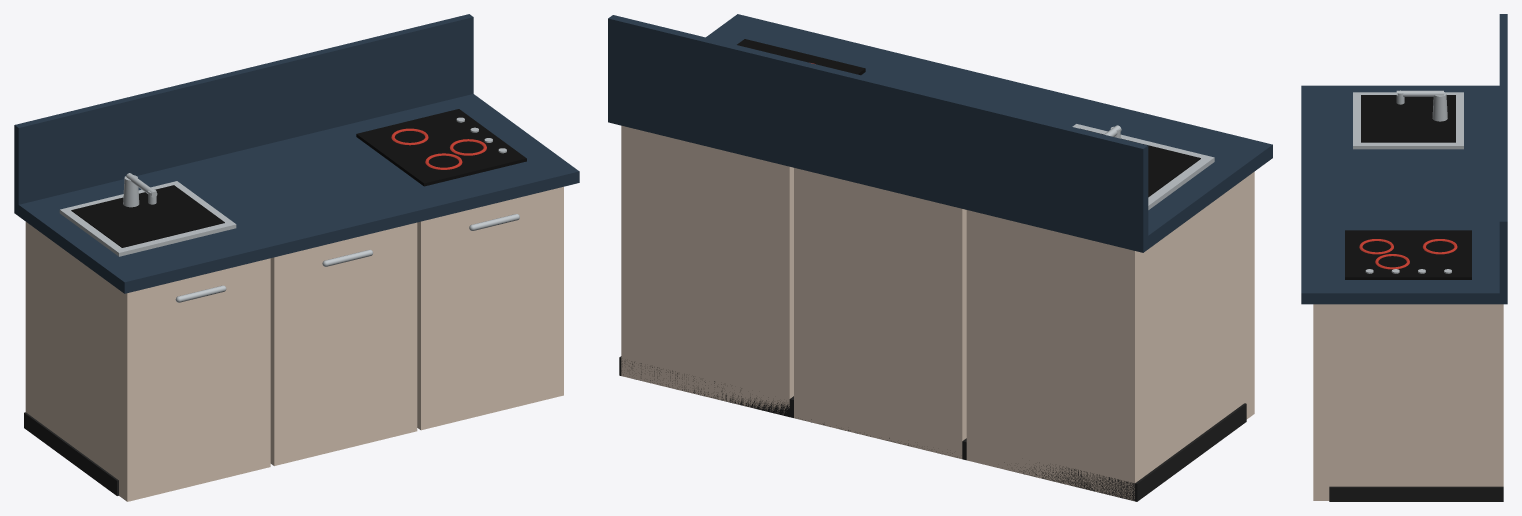
File: plan_de_travail_cuisine.glb
3 renders of one model, left to right at view 1: azimuth 30°, elevation 25°; view 2: azimuth 150°, elevation 25°; view 3: azimuth 270°, elevation 25°, orthographic. The views are drawn at different scales.
Bounding box in the file's own units: 6.2 × 3.95 × 2.6.
